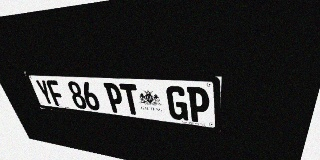6: (79, 82, 101, 111)
8: (66, 81, 88, 109)
F: (45, 80, 67, 107)
G: (166, 86, 188, 121)
P: (187, 87, 209, 123), (103, 83, 126, 114)
T: (119, 83, 142, 116)
Y: (34, 79, 55, 106)
